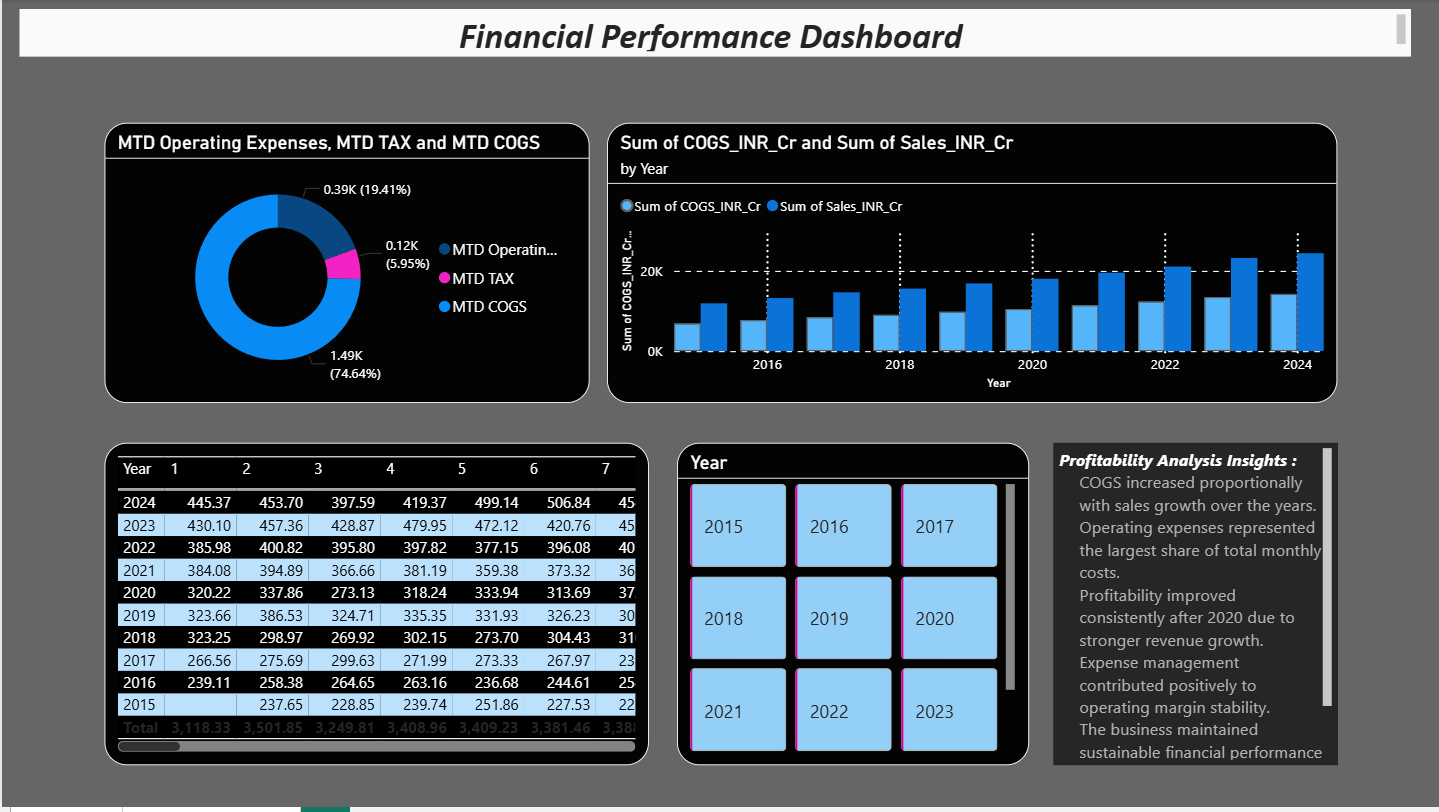

Layout of this report page (visuals, bound fields, positions):
{"tool":"powerbi","page":{"name":"Analysis &  Insights","canvas":[1280,720],"ordinal":1},"visuals":[{"type":"pivotTable","fields":{"Rows":["Sheet1.Year"],"Columns":["Sheet1.Week_Number"],"Values":["Sum(Sheet1.Sales_INR_Cr)"]},"box":[91.7,395.7,485,287.1],"z":6000},{"type":"advancedSlicerVisual","fields":{"Values":["Sheet1.Year"]},"box":[600.8,395.7,313.7,287.1],"z":7000},{"type":"lineClusteredColumnComboChart","fields":{"Category":["Sheet1.Year"],"Y":["Sum(Sheet1.COGS_INR_Cr)","Sum(Sheet1.Sales_INR_Cr)"]},"box":[539.3,109.8,650.3,249.7],"z":8000},{"type":"donutChart","fields":{"Y":["Sheet1.MTD Operating Expenses","Sheet1.MTD TAX","Sheet1.MTD COGS"]},"box":[91.7,109.8,431.9,249.7],"z":9000},{"type":"textbox","box":[15.7,8.4,1239,42.2],"z":12000},{"type":"textbox","box":[936.2,395.7,253.4,287.1],"z":12001}]}

Visuals, with their boxes in screenshot pixels (x1, y1, x2, y2), scaled from the page's 1280x720 canvas onto the 1439x812 screenshot:
pivotTable - Sheet1.Year x Sheet1.Week_Number: 103,446,648,770
advancedSlicerVisual - Sheet1.Year: 675,446,1028,770
lineClusteredColumnComboChart - Sheet1.Year x Sum(Sheet1.COGS_INR_Cr): 606,124,1337,405
donutChart - Sheet1.MTD Operating Expenses x Sheet1.MTD TAX: 103,124,589,405
textbox: 18,9,1411,57
textbox: 1052,446,1337,770
